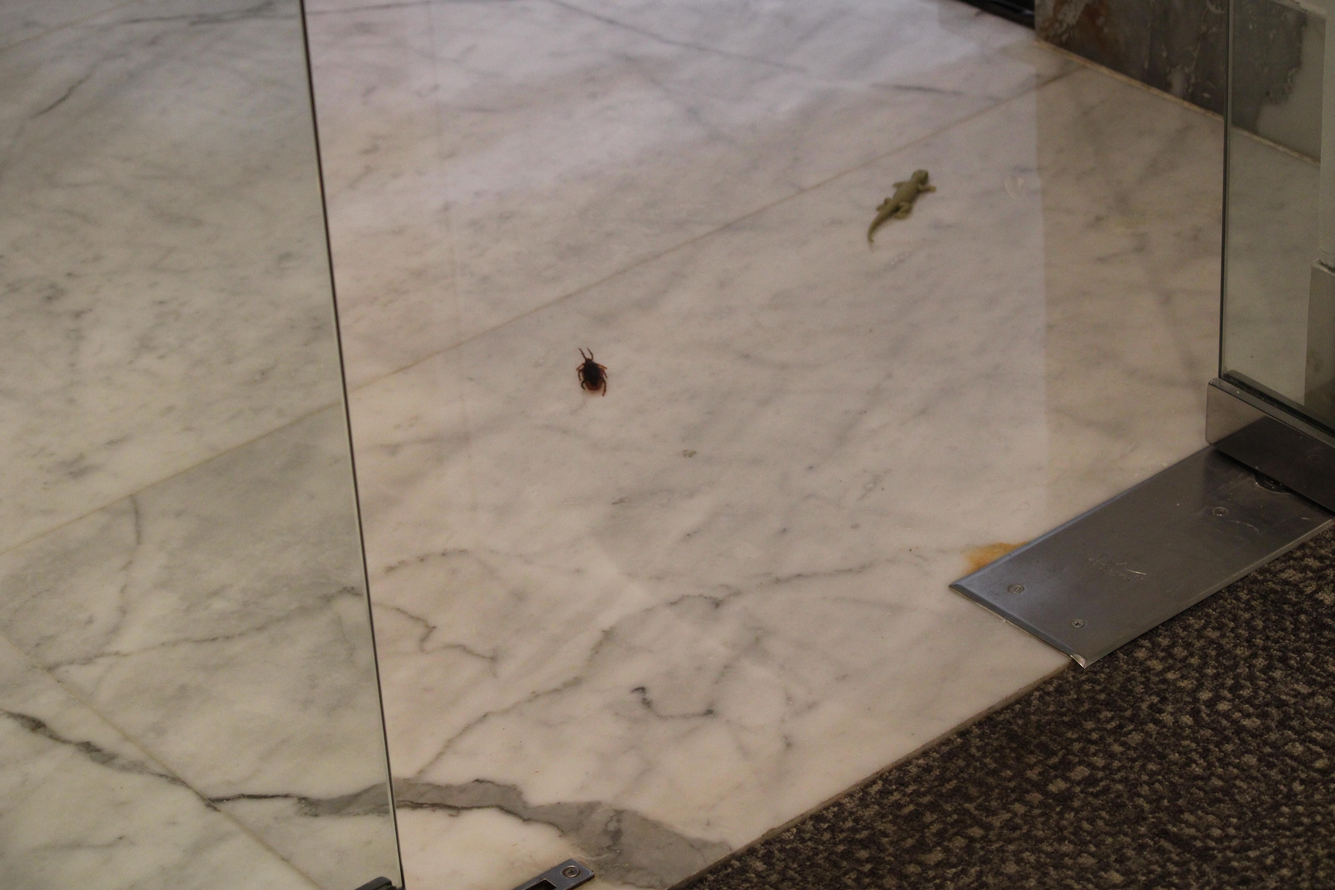cockroach: (570, 345, 619, 399)
lizard: (859, 158, 934, 257)
